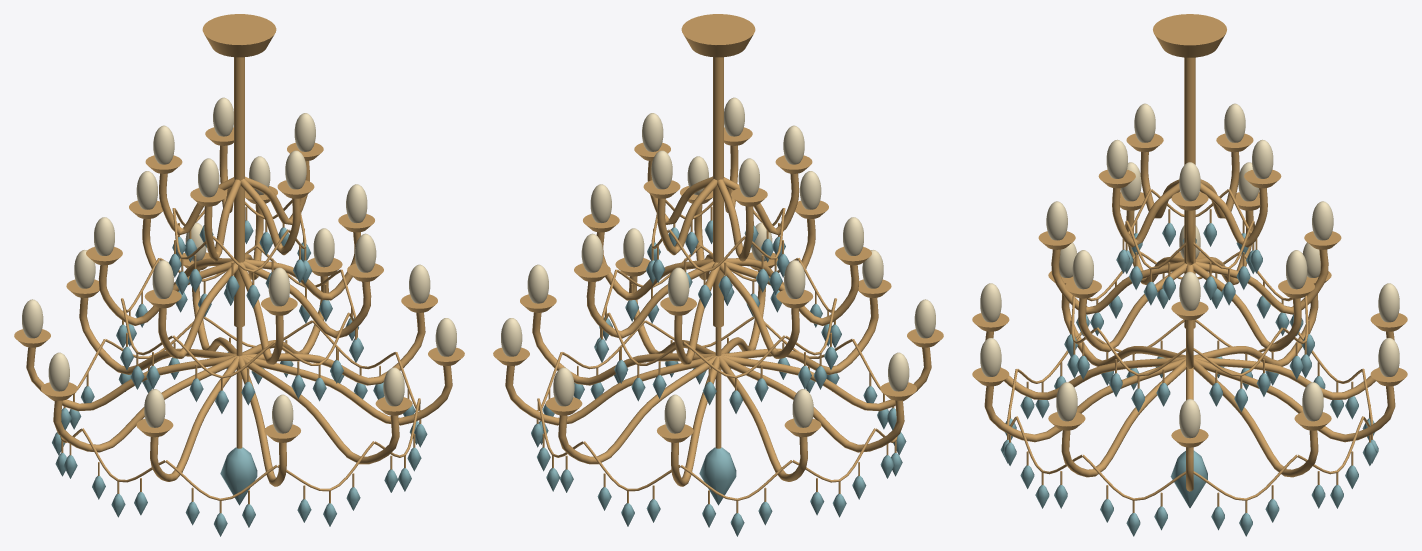
Rendered from chandelier_crystal-358e464a2174.glb.
3 renders of one model, left to right at view 1: azimuth 30°, elevation 25°; view 2: azimuth 150°, elevation 25°; view 3: azimuth 270°, elevation 25°, orthographic.
Visible parts, largest first — view 1: surface_brass, surface_ivory, surface_glass; view 2: surface_brass, surface_ivory, surface_glass; view 3: surface_brass, surface_ivory, surface_glass.
Boxes of the visible parts, x1=… form: surface_brass: x1=14, y1=14, x2=464, y2=513; surface_ivory: x1=22, y1=97, x2=456, y2=433; surface_glass: x1=52, y1=220, x2=427, y2=536; surface_brass: x1=493, y1=14, x2=943, y2=513; surface_ivory: x1=501, y1=97, x2=935, y2=433; surface_glass: x1=531, y1=220, x2=906, y2=536; surface_brass: x1=972, y1=14, x2=1407, y2=512; surface_ivory: x1=980, y1=103, x2=1399, y2=438; surface_glass: x1=1000, y1=223, x2=1378, y2=536.
Size of the model in its own units: 1.37 by 1.59 by 1.31.
